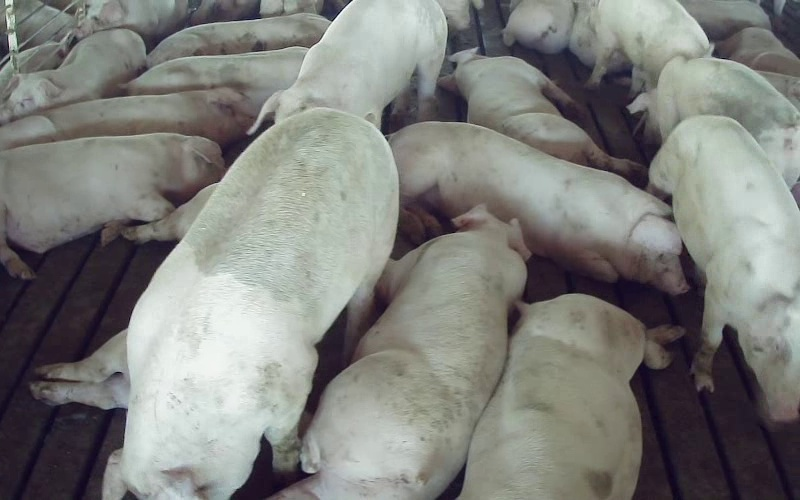pig: (104, 108, 397, 499), (272, 206, 526, 499), (649, 116, 799, 424), (459, 294, 682, 499), (0, 133, 224, 278), (439, 48, 645, 182), (629, 57, 799, 186), (0, 88, 255, 150), (0, 29, 145, 123), (587, 0, 709, 95), (125, 47, 307, 109), (147, 13, 330, 67)
